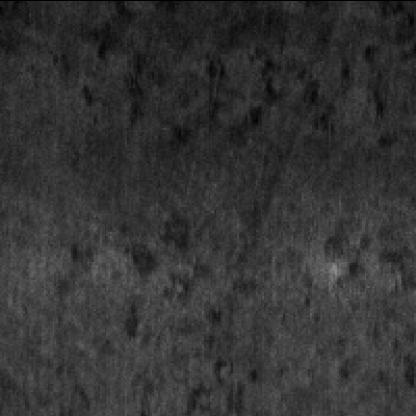rolled-in_scale: (75, 0, 414, 139), (220, 206, 410, 322), (62, 208, 224, 343)
